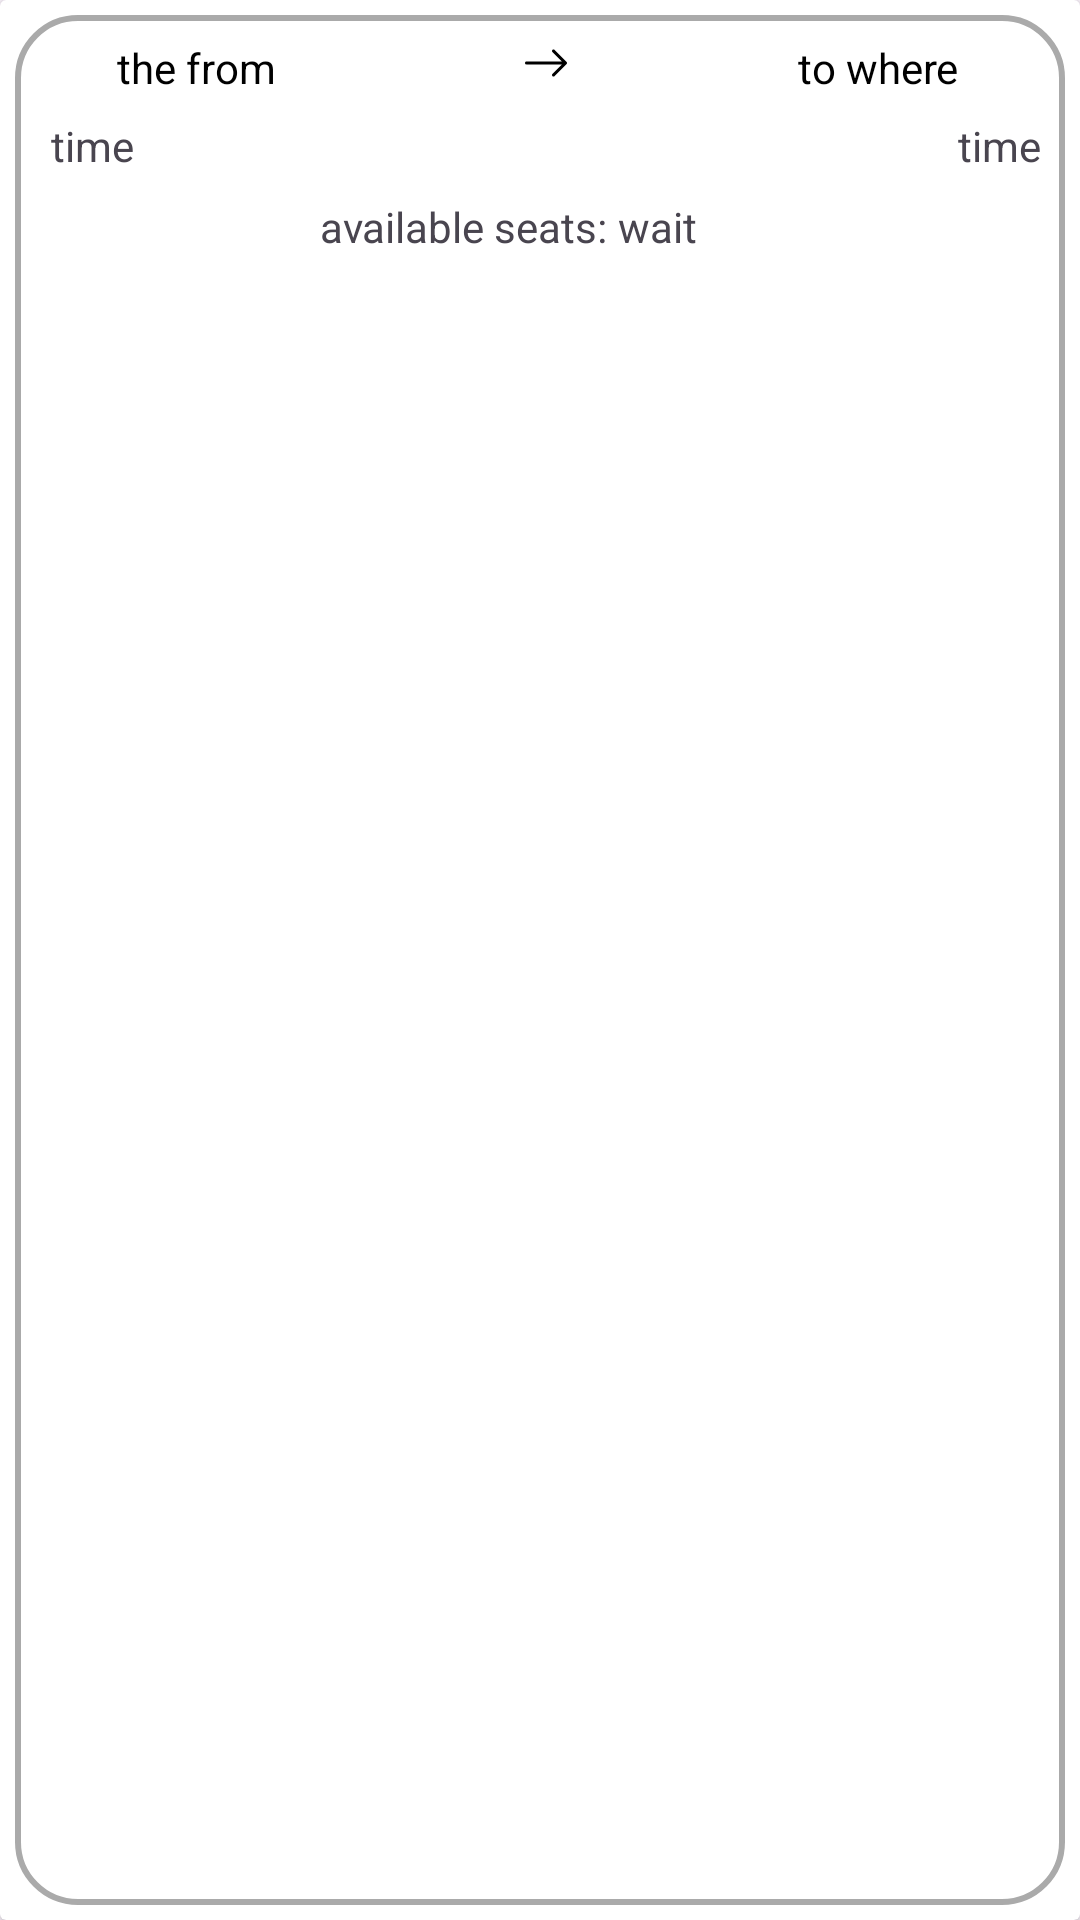

Screen size 1080*1920. Icon name, then its center in pixels as point (x, y):
arrow right: point (546, 63)
